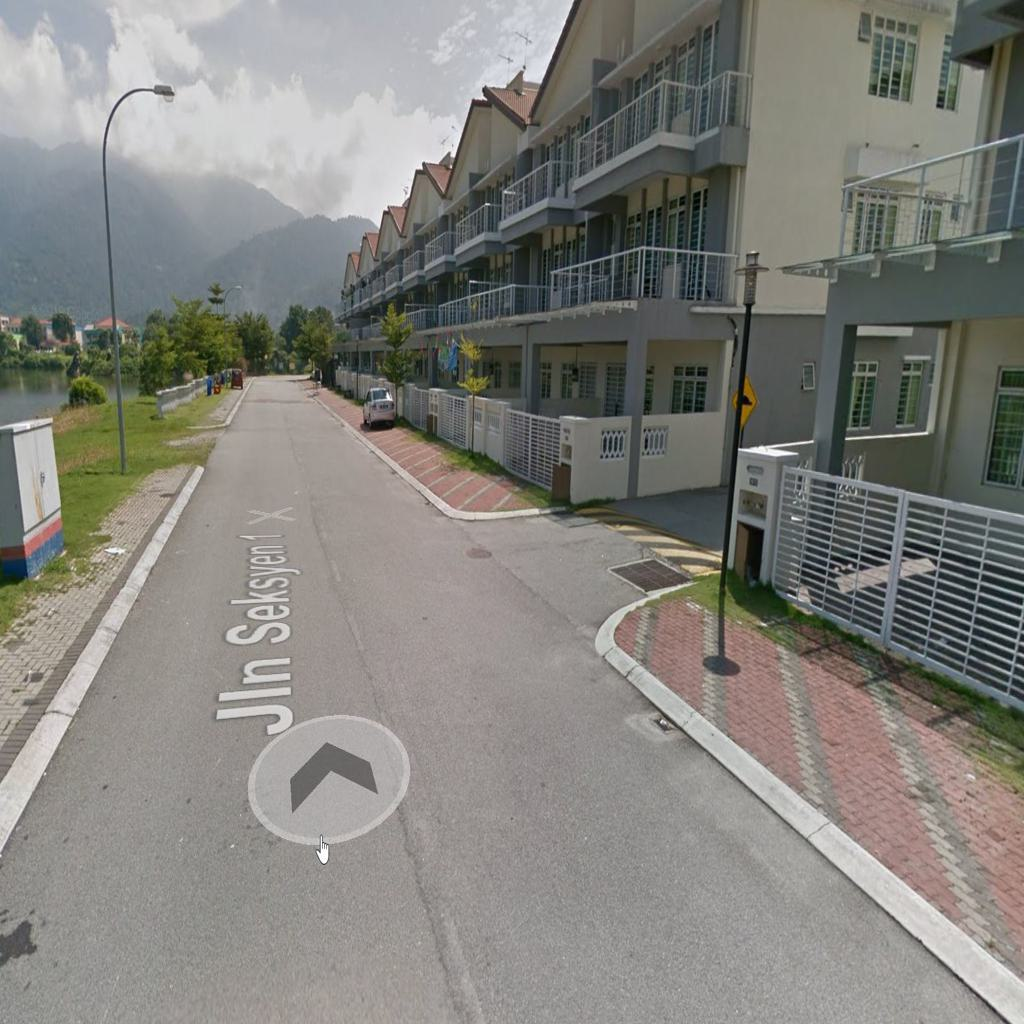Junction: (447, 459, 725, 666)
